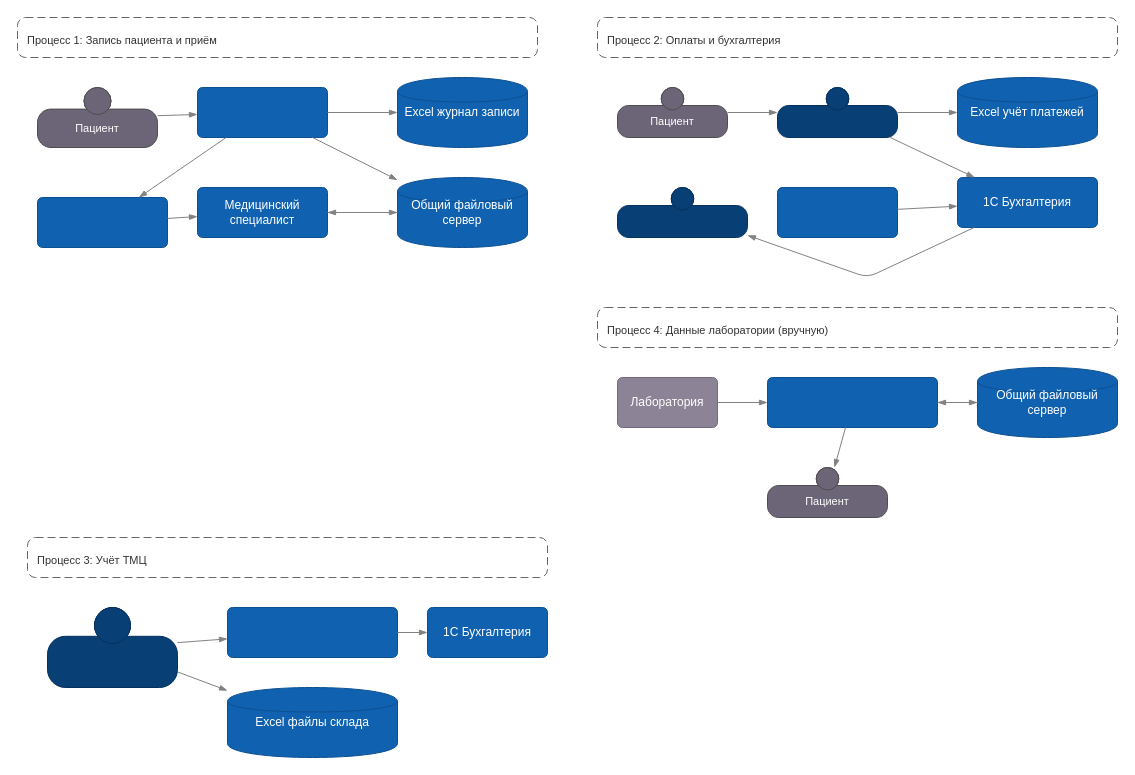
This 1135x775 diagram has some shape labels left out. The shapes that lost their labels are listed below. From the top down, each one's centre as x and y in pixels, then its label:
At pixel 262 112: "Ресепшен".
At pixel 837 112: "Кассир".
At pixel 102 222: "Outlook/Exchange".
At pixel 682 212: "Бухгалтерия".
At pixel 837 212: "ККМ".
At pixel 852 402: "Ресепшен/специалист".
At pixel 112 647: "Склад".
At pixel 312 632: "1С Торговля и склад".
